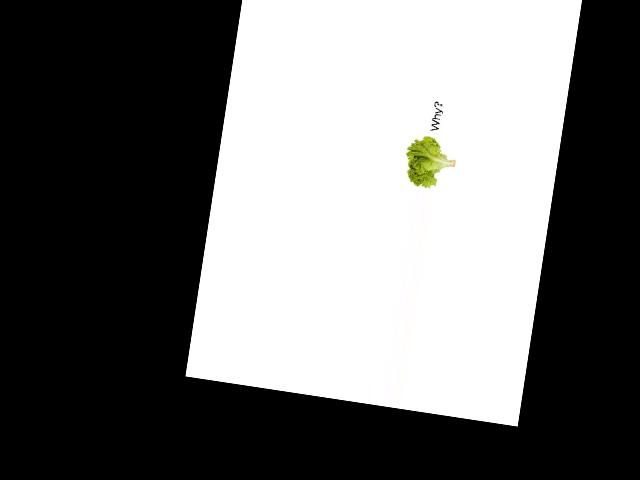lettuce: (401, 128, 460, 193)
